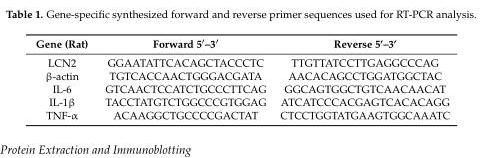table: (35, 35, 449, 121)
table column: (95, 35, 272, 121), (272, 35, 449, 121), (35, 35, 95, 121)
table column header: (35, 35, 449, 53)
table row: (35, 35, 449, 53), (35, 53, 449, 68), (35, 81, 449, 95), (35, 68, 449, 81), (35, 95, 449, 108), (35, 108, 449, 121)
